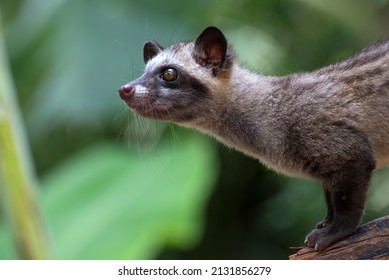Civet: (114, 25, 389, 255)
